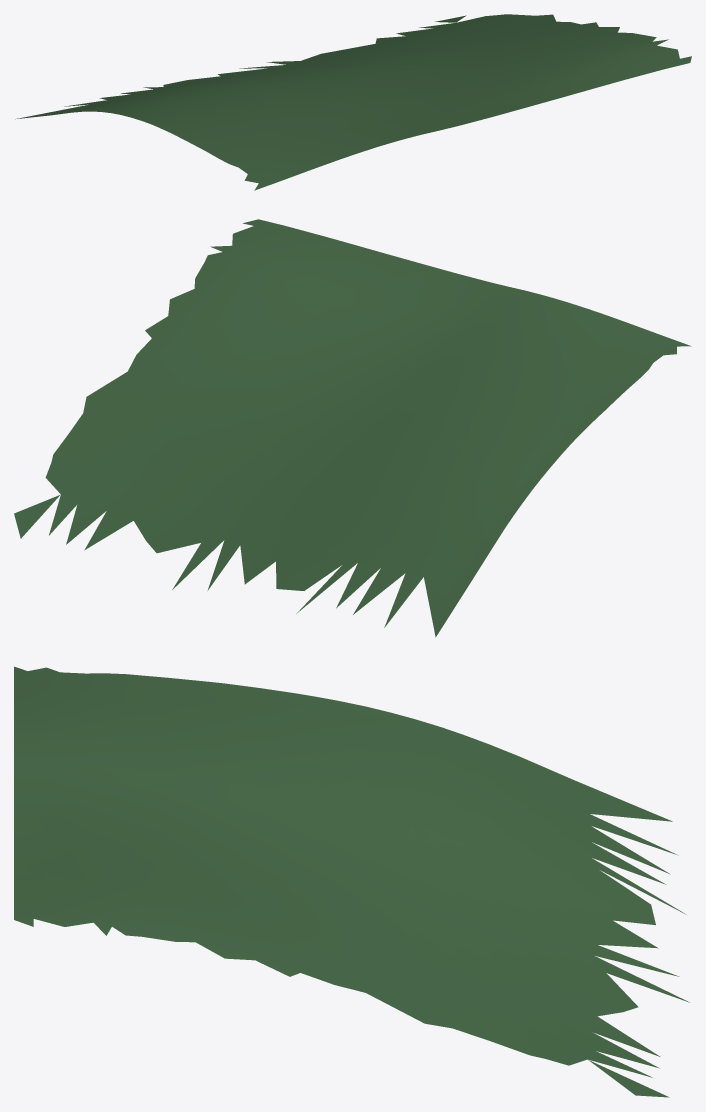
File: payo_land_xm1_y10.glb
3 views of the same model, one above another, from view 1: azimuth 30°, elevation 25°; view 2: azimuth 150°, elevation 25°; view 3: azimuth 270°, elevation 25° (orthographic). The views are drawn at different scales.
Visible parts, largest first — view 1: payo_land_xm1_y10; view 2: payo_land_xm1_y10; view 3: payo_land_xm1_y10.
Boxes of the visible parts, <box> form: payo_land_xm1_y10: <box>15,14,691,190</box>; payo_land_xm1_y10: <box>14,219,691,637</box>; payo_land_xm1_y10: <box>14,666,689,1097</box>.
Size of the model in its own units: 270 by 82.55 by 264.
